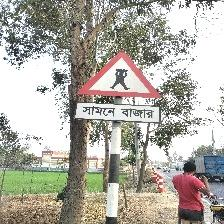Market-in-front: (75, 50, 163, 125)
